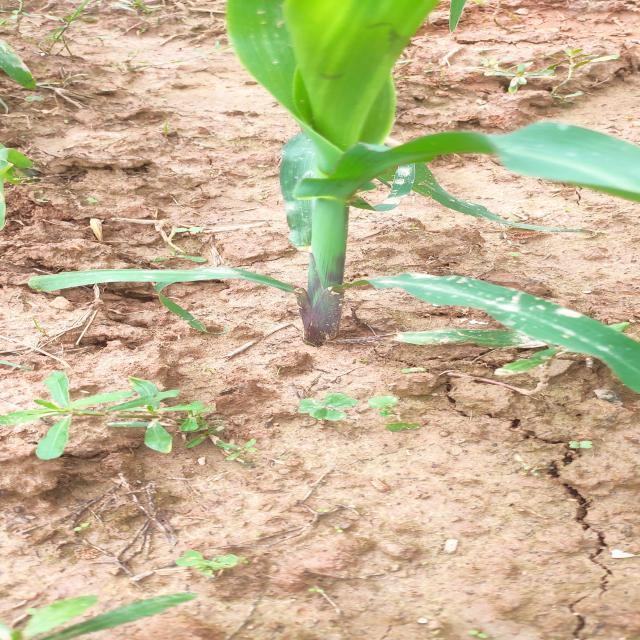maize: (125, 3, 640, 371)
weed: (14, 368, 455, 464), (0, 549, 257, 640)
